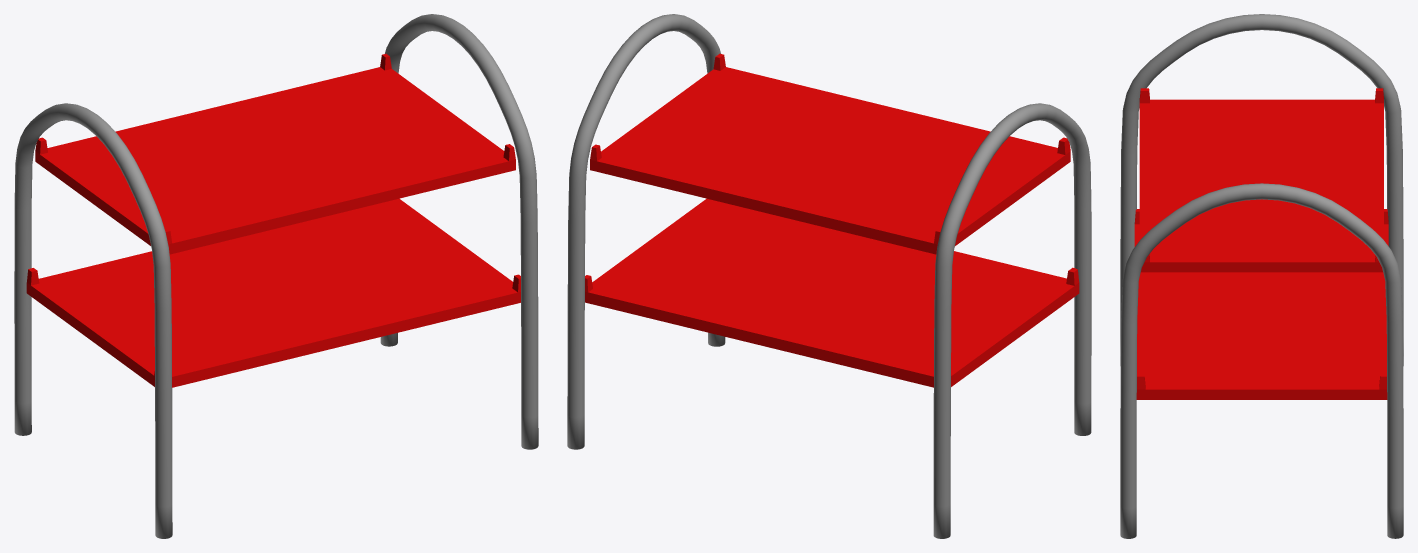
The model's file is taula.FBX.
3 renders of one model, left to right at view 1: azimuth 30°, elevation 25°; view 2: azimuth 150°, elevation 25°; view 3: azimuth 270°, elevation 25°, orthographic. The views are drawn at different scales.
Parts seen in each view (by area): view 1: Box002, Box001, Torus002, Torus001; view 2: Box002, Box001, Torus002, Torus001; view 3: Box001, Box002, Torus001, Torus002.
Boxes of the visible parts, bbox=[...] form: Box002: bbox=[26, 198, 520, 387]; Box001: bbox=[35, 53, 515, 254]; Torus002: bbox=[14, 103, 172, 538]; Torus001: bbox=[380, 14, 538, 449]; Box002: bbox=[585, 198, 1079, 387]; Box001: bbox=[590, 53, 1070, 254]; Torus002: bbox=[933, 103, 1091, 538]; Torus001: bbox=[567, 14, 725, 449]; Box001: bbox=[1139, 88, 1383, 272]; Box002: bbox=[1134, 209, 1388, 399]; Torus001: bbox=[1120, 183, 1403, 538]; Torus002: bbox=[1120, 14, 1403, 365].
Size of the model in its own units: 71.59 by 66.41 by 48.46.
